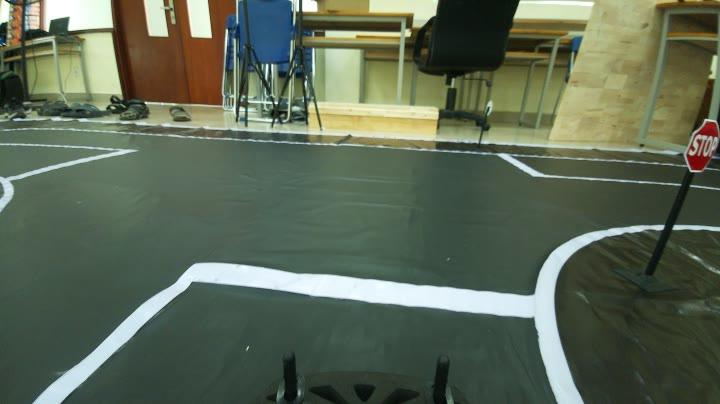stop: (682, 120, 720, 164)
